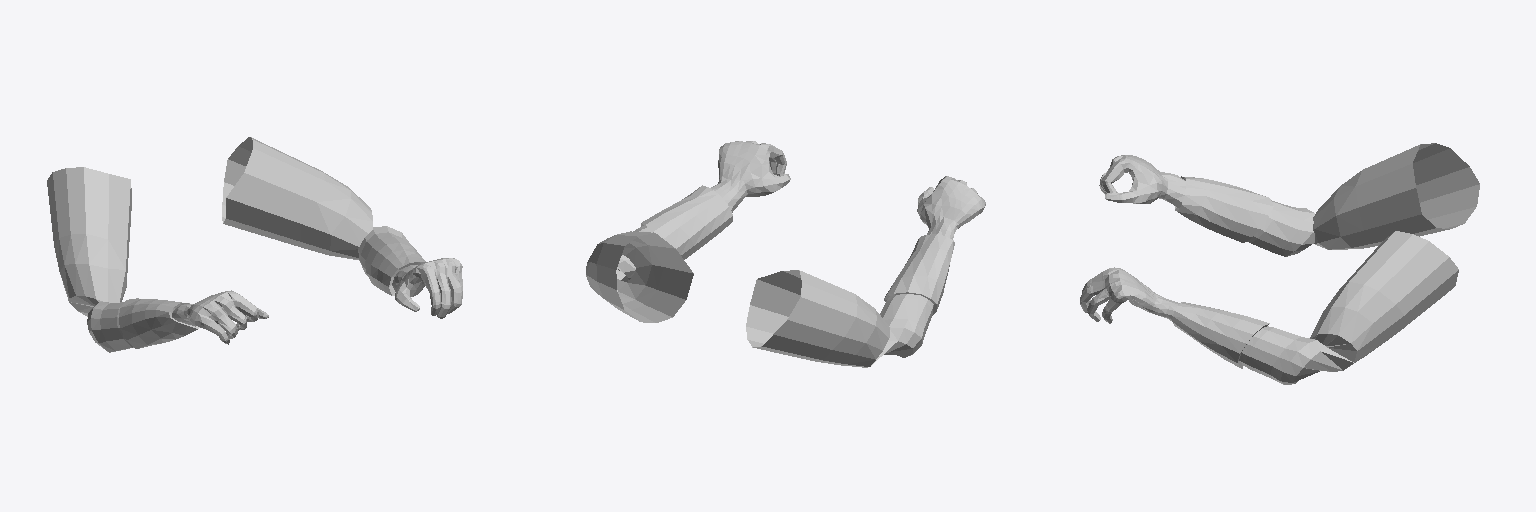
Rendered from Firstperson_Mesh.obj.
The picture shows the model from 3 angles: view 1: azimuth 30°, elevation 25°; view 2: azimuth 150°, elevation 25°; view 3: azimuth 270°, elevation 25°; orthographic projection.
Parts seen in each view (by area): view 1: Cube; view 2: Cube; view 3: Cube.
Boxes of the visible parts, box(x1,y1,x2,y2) form: Cube: box(47, 137, 462, 352); Cube: box(586, 141, 985, 367); Cube: box(1080, 143, 1479, 384).
Size of the model in its own units: 19.18 by 7.17 by 20.91.